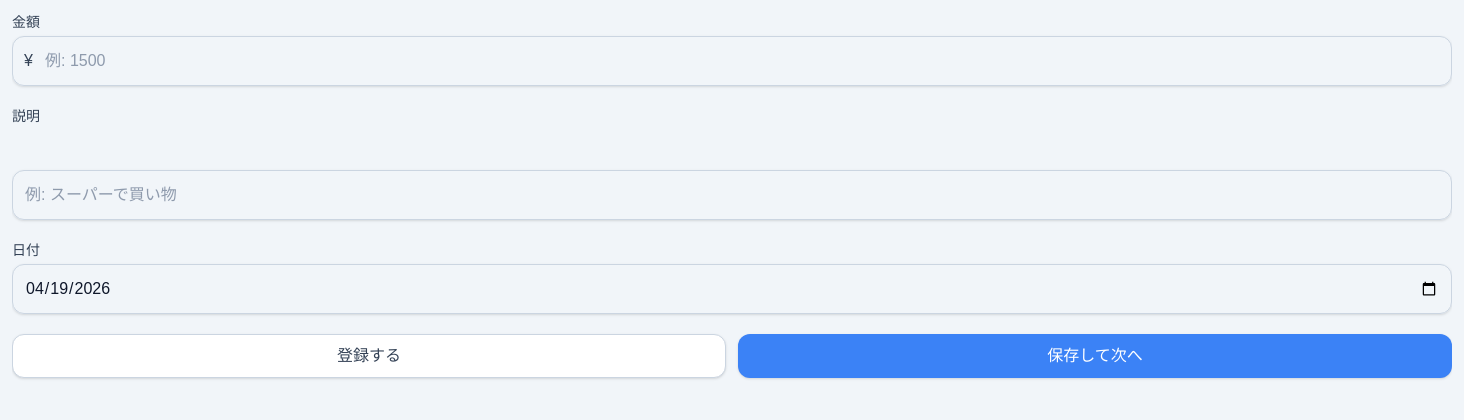
Scenario: PaymentForm › バリデーションエラー表示 › 金額が空で送信するとエラーを表示する
// 説明を入力（金額は空のまま）
Type "テスト" into the field labelled "説明" at (732, 195), box top-left (12, 170), bottom-right (1452, 220)
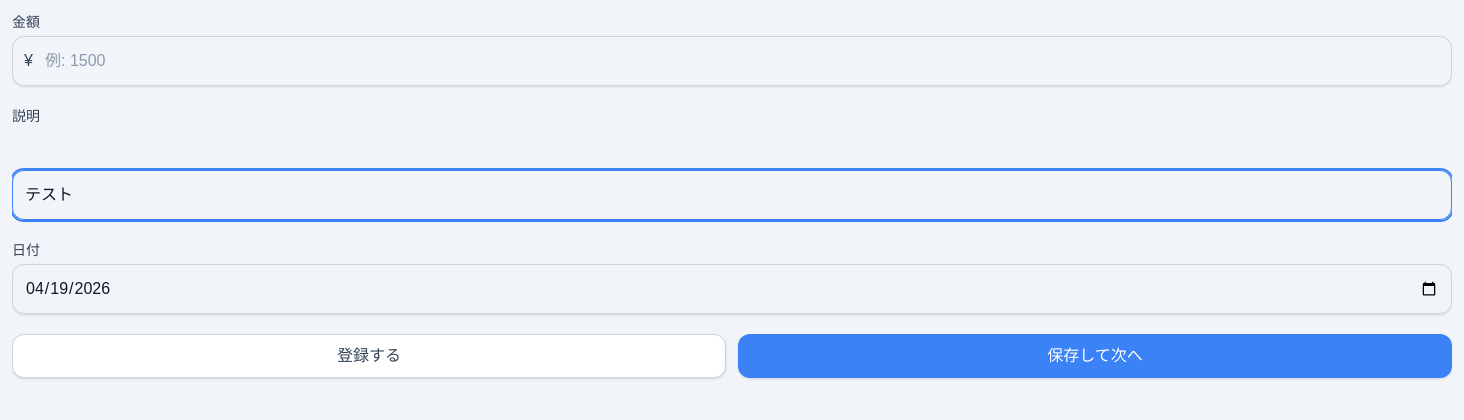
Click the button "登録する" at (369, 356), box top-left (12, 334), bottom-right (726, 378)
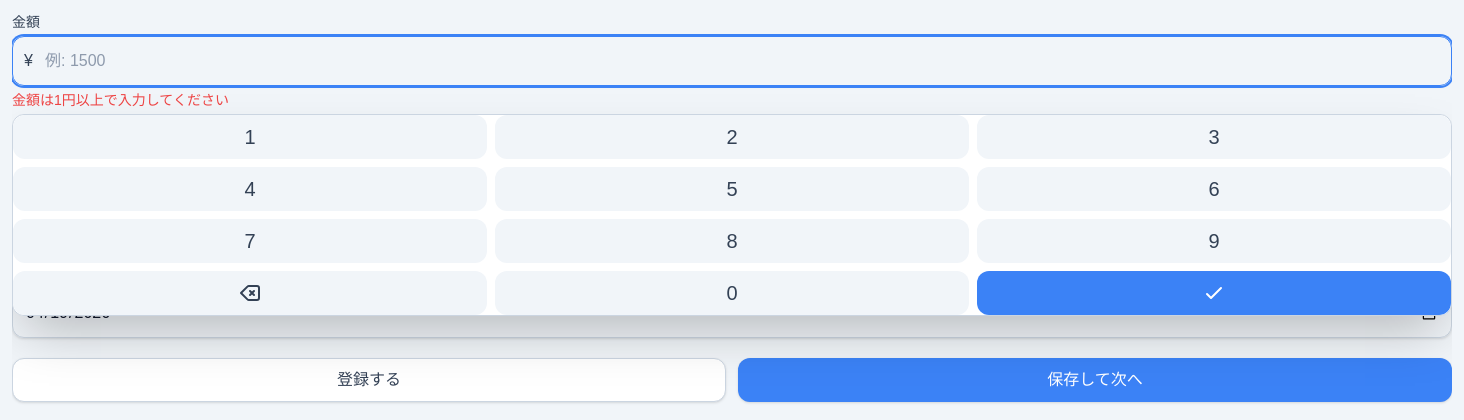
Result: the text "金額は1円以上で入力してください" is shown at top-left (12, 92), bottom-right (229, 108)
